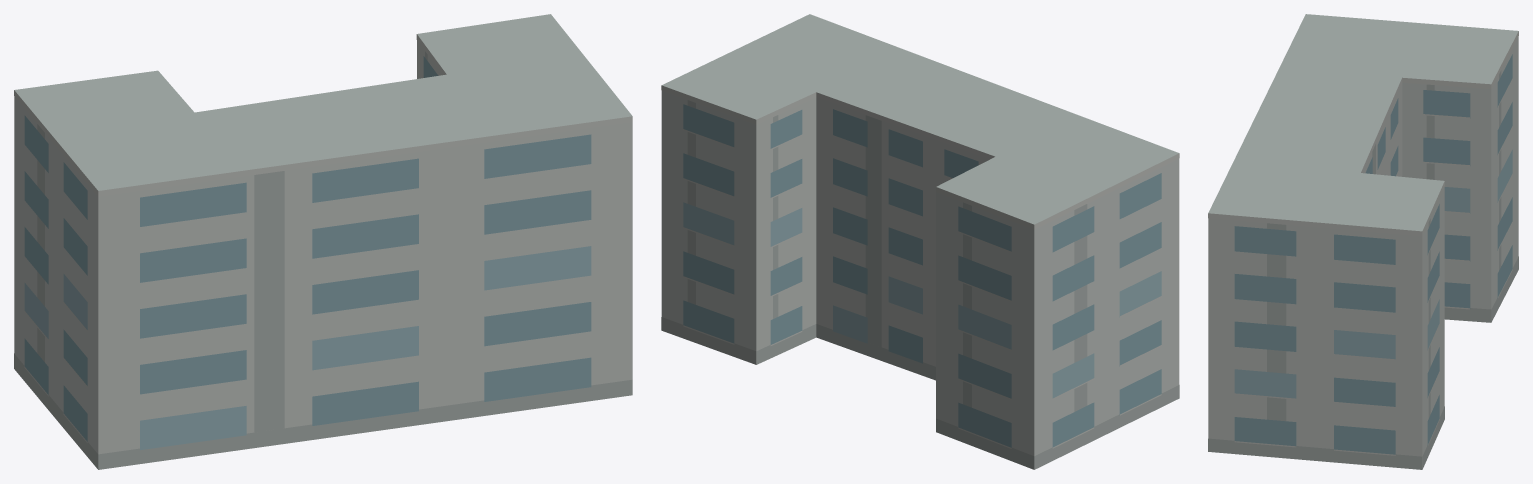
File: survey-upis-32536530.glb
The picture shows the model from 3 angles, left to right: view 1: azimuth 30°, elevation 25°; view 2: azimuth 150°, elevation 25°; view 3: azimuth 270°, elevation 25°; orthographic projection. The views are drawn at different scales.
Visible parts, largest first — view 1: survey-upis-32536530.tmp; view 2: survey-upis-32536530.tmp; view 3: survey-upis-32536530.tmp.
Part boxes in pixels (left/top/right/bottom): survey-upis-32536530.tmp: left=14, top=14, right=632, bottom=469; survey-upis-32536530.tmp: left=661, top=14, right=1179, bottom=469; survey-upis-32536530.tmp: left=1208, top=14, right=1518, bottom=469.
Bounding box in the file's own units: 22.68 × 11.6 × 13.7.
